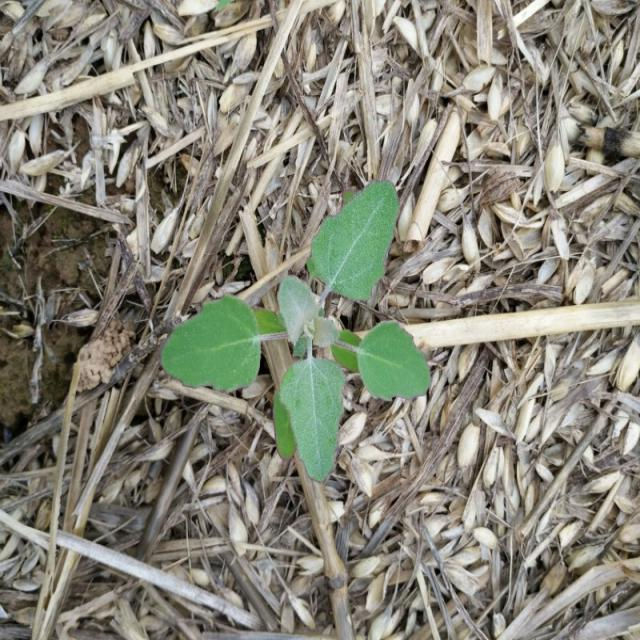goosefoots: (156, 208, 472, 475)
